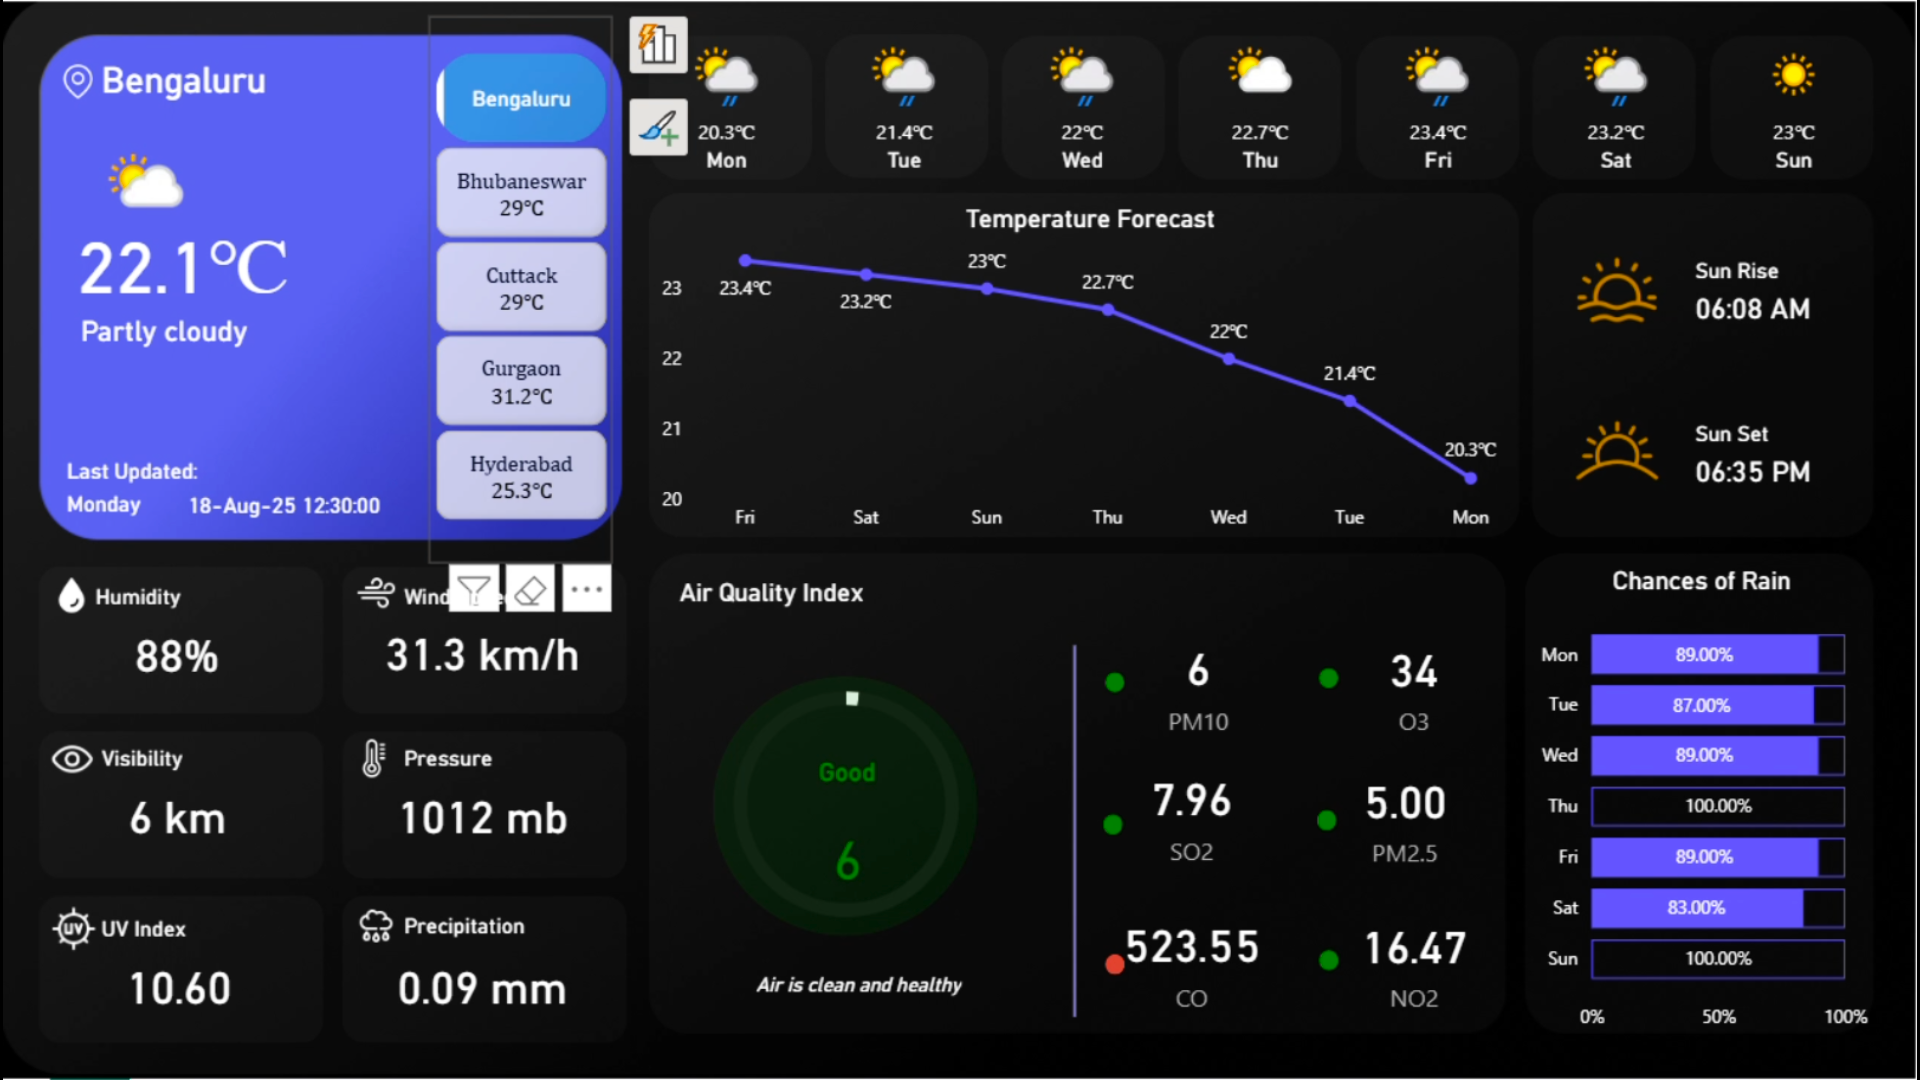

The dashboard page shown, as its layout file describes it:
{"tool":"powerbi","page":{"name":"Page 1","canvas":[1280,720],"ordinal":0},"visuals":[{"type":"shape","box":[123,323,144,27],"z":0,"group":"g1"},{"type":"donutChart","fields":{"Y":["Sum(Current.current.air_quality.pm10)","_Measures.Left PM10 Value"]},"box":[452.2,438,222.9,198.6],"z":0},{"type":"advancedSlicerVisual","fields":{"Values":["Locations.location.name"]},"box":[284.2,10,124.2,365.8],"z":1000},{"type":"shape","box":[50,140,171.7,76.7],"z":1000,"group":"g2"},{"type":"shape","box":[42.5,322.5,80.8,27.5],"z":1000,"group":"g1"},{"type":"shape","box":[66.7,39.2,226.7,28.3],"z":2000},{"type":"shape","box":[52.5,195.8,221.7,50],"z":2000,"group":"g2"},{"type":"shape","box":[42.5,300,93.3,28.3],"z":2000,"group":"g1"},{"type":"image","box":[31.7,37.5,36.7,32.5],"z":3000},{"type":"image","box":[16.9,485.6,60,41.9],"z":4000},{"type":"shape","box":[66.2,491.9,56.9,28.1],"z":5000},{"type":"cardVisual","fields":{"Data":["Min(Current.current.condition.icon)"]},"box":[50,77.5,93.3,80.8],"z":6000,"group":"g2"},{"type":"image","box":[23.8,380,45,35],"z":6000},{"type":"shape","box":[62.5,383.8,60.6,28.1],"z":7000},{"type":"shape","box":[267.5,604.4,85.6,28.1],"z":8000},{"type":"shape","box":[267.5,492.5,63.8,28.1],"z":9000},{"type":"shape","box":[267.5,383.8,78.1,28.1],"z":10000},{"type":"shape","box":[66.2,606.2,63.8,28.1],"z":11000},{"type":"image","box":[24.4,600,44.4,40.6],"z":12000},{"type":"image","box":[230.6,377.5,36.9,37.5],"z":13000},{"type":"image","box":[230,488.1,37.5,35.6],"z":14000},{"type":"image","box":[230.6,600,36.9,36.9],"z":15000},{"type":"card","fields":{"Values":["_Measures.Humidity"]},"box":[70.1,398.5,92.5,73.1],"z":16000},{"type":"card","fields":{"Values":["_Measures.Visibility"]},"box":[61.2,506,111.9,74.6],"z":17000},{"type":"card","fields":{"Values":["_Measures.UV"]},"box":[73.1,620.9,89.6,74.6],"z":18000},{"type":"card","fields":{"Values":["_Measures.Wind Speed kph"]},"box":[246.3,397,149.3,73.1],"z":19000},{"type":"card","fields":{"Values":["_Measures.Pressure mb"]},"box":[246.3,506,149.3,74.6],"z":20000},{"type":"card","fields":{"Values":["_Measures.Precipitation mm"]},"box":[256.7,620.9,126.9,74.6],"z":21000},{"type":"image","box":[1038.3,255.8,82.5,88],"z":22000},{"type":"image","box":[1048,155.4,63.3,74.3],"z":23000},{"type":"advancedSlicerVisual","fields":{"Values":["Forecast_Day.Day_Name"]},"box":[423.8,18.5,840,114.6],"z":24000},{"type":"group","id":"g1","title":"Group 1","box":[42.5,300,224.5,50],"z":25000},{"type":"lineChart","title":"Temperature Forecast","fields":{"Y":["Sum(Forecast_Day.forecast.forecastday.day.avgtemp_c)"],"Category":["Forecast_Day.Day_Name"]},"box":[436,135,583,228],"z":26000},{"type":"shape","box":[1131.9,180.2,100.4,49.5],"z":27000},{"type":"group","id":"g2","title":"Group 2","box":[50,77.5,224.2,168.3],"z":28000},{"type":"shape","box":[1131.9,288.8,100.4,49.5],"z":29000},{"type":"shape","box":[1131.9,155.4,100.4,49.5],"z":30000},{"type":"shape","box":[1131.9,264.1,100.4,49.5],"z":31000},{"type":"hundredPercentStackedBarChart","title":"Chances of Rain","fields":{"Category":["Forecast_Day.Day_Name"],"Y":["Sum(Forecast_Day.forecast.forecastday.day.daily_chance_of_rain)","_Measures.Left to Rain"]},"box":[1020,376.7,231.7,320],"z":32000},{"type":"shape","box":[452.9,370,148.6,50],"z":33000},{"type":"card","fields":{"Values":["Sum(Current.current.air_quality.pm10)"]},"box":[749.3,412.5,100,85],"z":34000},{"type":"card","fields":{"Values":["Sum(Current.current.air_quality.so2)"]},"box":[743.1,501.2,105,83.8],"z":35000},{"type":"card","fields":{"Values":["Sum(Current.current.air_quality.co)"]},"box":[743.1,597.5,105,86.2],"z":36000},{"type":"card","fields":{"Values":["Sum(Current.current.air_quality.o3)"]},"box":[893.8,413.7,100,83.8],"z":37000},{"type":"card","fields":{"Values":["Sum(Current.current.air_quality.pm2_5)"]},"box":[881.4,501.4,112.3,83.8],"z":38000},{"type":"card","fields":{"Values":["Sum(Current.current.air_quality.no2)"]},"box":[886.8,598.3,113.8,85.4],"z":39000},{"type":"shape","box":[737.2,447.7,13.1,13.8],"z":40000},{"type":"shape","box":[736,543.3,13.3,14.2],"z":41000},{"type":"shape","box":[736.8,636.7,13.3,14.2],"z":42000},{"type":"shape","box":[880.6,445.2,13.1,13.8],"z":43000},{"type":"shape","box":[879.3,540.9,13.3,14.2],"z":44000},{"type":"shape","box":[880.2,634.2,13.3,14.2],"z":45000},{"type":"shape","box":[690,430,52.9,248.6],"z":46000},{"type":"shape","box":[474.2,450.5,177.5,173.8],"z":47000},{"type":"card","fields":{"Values":["Sum(Current.current.air_quality.pm10)"]},"box":[501.4,504.3,125.7,112.9],"z":48000},{"type":"shape","box":[418.6,618.6,308.6,75.7],"z":49000}]}

Visuals, with their boxes in screenshot pixels (x1, y1, x2, y2), scaled from the page's 1280x720 canvas onto the 1920x1080 screenshot:
shape: x1=184 y1=484 x2=400 y2=525
donutChart - Sum(Current.current.air_quality.pm10) x _Measures.Left PM10 Value: x1=678 y1=657 x2=1013 y2=955
advancedSlicerVisual - Locations.location.name: x1=426 y1=15 x2=613 y2=564
shape: x1=75 y1=210 x2=333 y2=325
shape: x1=64 y1=484 x2=185 y2=525
shape: x1=100 y1=59 x2=440 y2=101
shape: x1=79 y1=294 x2=411 y2=369
shape: x1=64 y1=450 x2=204 y2=492
image: x1=48 y1=56 x2=103 y2=105
image: x1=25 y1=728 x2=115 y2=791
shape: x1=99 y1=738 x2=185 y2=780
cardVisual - Min(Current.current.condition.icon): x1=75 y1=116 x2=215 y2=237
image: x1=36 y1=570 x2=103 y2=622
shape: x1=94 y1=576 x2=185 y2=618
shape: x1=401 y1=907 x2=530 y2=949
shape: x1=401 y1=739 x2=497 y2=781
shape: x1=401 y1=576 x2=518 y2=618
shape: x1=99 y1=909 x2=195 y2=951
image: x1=37 y1=900 x2=103 y2=961
image: x1=346 y1=566 x2=401 y2=622
image: x1=345 y1=732 x2=401 y2=786
image: x1=346 y1=900 x2=401 y2=955
card - _Measures.Humidity: x1=105 y1=598 x2=244 y2=707
card - _Measures.Visibility: x1=92 y1=759 x2=260 y2=871
card - _Measures.UV: x1=110 y1=931 x2=244 y2=1043
card - _Measures.Wind Speed kph: x1=369 y1=596 x2=593 y2=705
card - _Measures.Pressure mb: x1=369 y1=759 x2=593 y2=871
card - _Measures.Precipitation mm: x1=385 y1=931 x2=575 y2=1043
image: x1=1557 y1=384 x2=1681 y2=516
image: x1=1572 y1=233 x2=1667 y2=345
advancedSlicerVisual - Forecast_Day.Day_Name: x1=636 y1=28 x2=1896 y2=200
"Group 1" group: x1=64 y1=450 x2=400 y2=525
"Temperature Forecast" lineChart: x1=654 y1=202 x2=1528 y2=544
shape: x1=1698 y1=270 x2=1848 y2=345
"Group 2" group: x1=75 y1=116 x2=411 y2=369
shape: x1=1698 y1=433 x2=1848 y2=507
shape: x1=1698 y1=233 x2=1848 y2=307
shape: x1=1698 y1=396 x2=1848 y2=470
"Chances of Rain" hundredPercentStackedBarChart: x1=1530 y1=565 x2=1878 y2=1045
shape: x1=679 y1=555 x2=902 y2=630
card - Sum(Current.current.air_quality.pm10): x1=1124 y1=619 x2=1274 y2=746
card - Sum(Current.current.air_quality.so2): x1=1115 y1=752 x2=1272 y2=878
card - Sum(Current.current.air_quality.co): x1=1115 y1=896 x2=1272 y2=1026
card - Sum(Current.current.air_quality.o3): x1=1341 y1=621 x2=1491 y2=746
card - Sum(Current.current.air_quality.pm2_5): x1=1322 y1=752 x2=1491 y2=878
card - Sum(Current.current.air_quality.no2): x1=1330 y1=897 x2=1501 y2=1026
shape: x1=1106 y1=672 x2=1125 y2=692
shape: x1=1104 y1=815 x2=1124 y2=836
shape: x1=1105 y1=955 x2=1125 y2=976
shape: x1=1321 y1=668 x2=1341 y2=688
shape: x1=1319 y1=811 x2=1339 y2=833
shape: x1=1320 y1=951 x2=1340 y2=973
shape: x1=1035 y1=645 x2=1114 y2=1018
shape: x1=711 y1=676 x2=978 y2=936
card - Sum(Current.current.air_quality.pm10): x1=752 y1=756 x2=941 y2=926
shape: x1=628 y1=928 x2=1091 y2=1041
